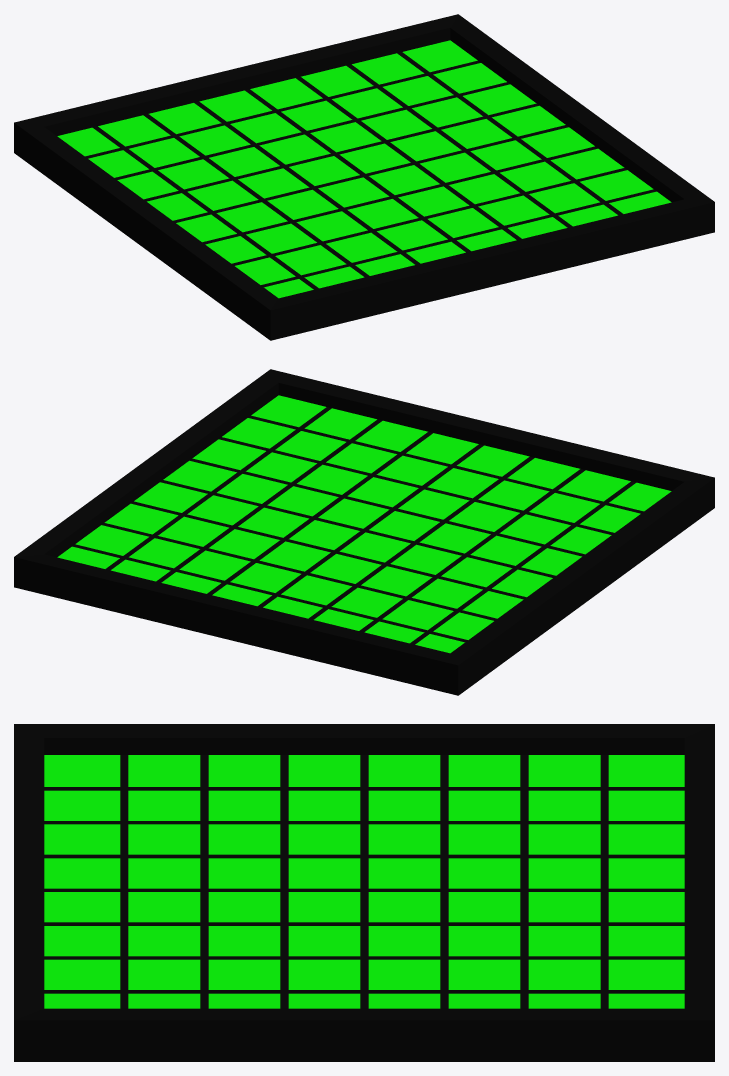
3 views of the same model, one above another, from view 1: azimuth 30°, elevation 25°; view 2: azimuth 150°, elevation 25°; view 3: azimuth 270°, elevation 25° (orthographic). The views are drawn at different scales.
Visible parts, largest first — view 1: 平面; view 2: 平面; view 3: 平面.
Boxes of the visible parts, x1=… form: 平面: x1=14, y1=14, x2=714, y2=340; 平面: x1=14, y1=369, x2=714, y2=695; 平面: x1=14, y1=724, x2=714, y2=1061.
Bounding box in the file's own units: 876 × 57.27 × 876.
